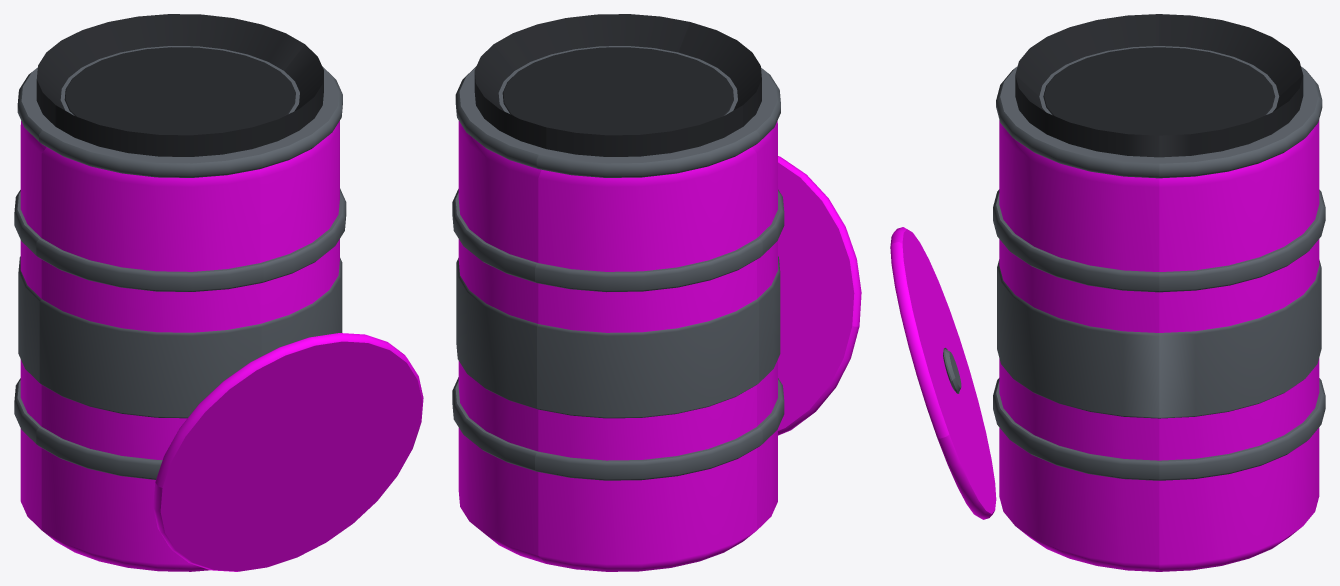
File: objet_baril_vide.glb
3 views of the same model, side by side, from view 1: azimuth 30°, elevation 25°; view 2: azimuth 150°, elevation 25°; view 3: azimuth 270°, elevation 25° (orthographic).
Visible parts, largest first — view 1: baril_teinte.008, baril_acier_doux_sombre.008, baril_symbole_noir.006; view 2: baril_teinte.008, baril_acier_doux_sombre.008, baril_symbole_noir.006; view 3: baril_teinte.008, baril_acier_doux_sombre.008, baril_symbole_noir.006.
Part boxes in pixels (<box>): baril_teinte.008: <box>20,121,423,571</box>; baril_acier_doux_sombre.008: <box>14,46,346,479</box>; baril_symbole_noir.006: <box>36,14,323,156</box>; baril_teinte.008: <box>458,121,861,571</box>; baril_acier_doux_sombre.008: <box>452,46,784,480</box>; baril_symbole_noir.006: <box>474,14,761,156</box>; baril_teinte.008: <box>890,120,1319,571</box>; baril_acier_doux_sombre.008: <box>943,46,1325,480</box>; baril_symbole_noir.006: <box>1015,14,1303,157</box>.
Bounding box in the file's own units: 0.208 × 0.301 × 0.2721.
